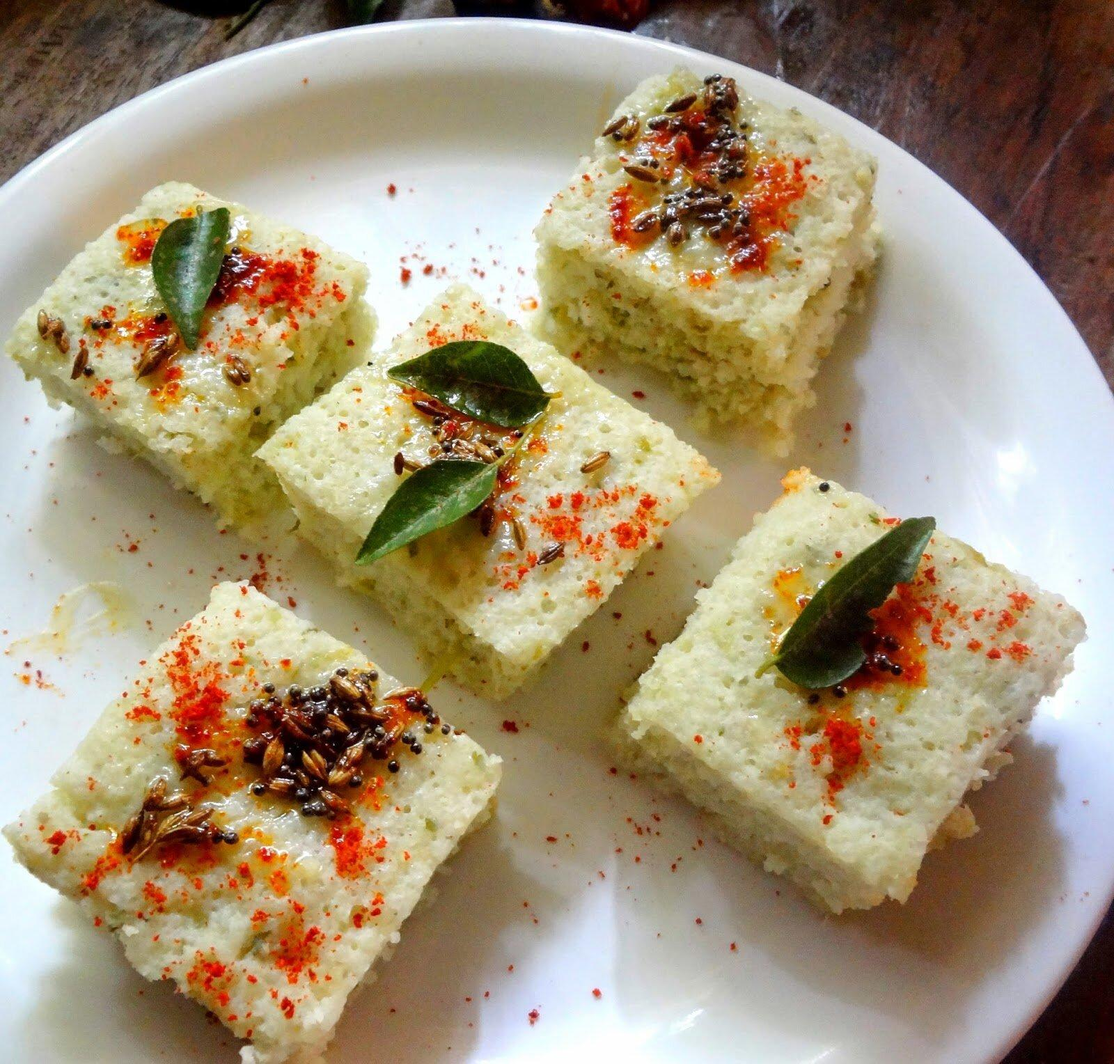dhokla: (0, 71, 1072, 1064)
